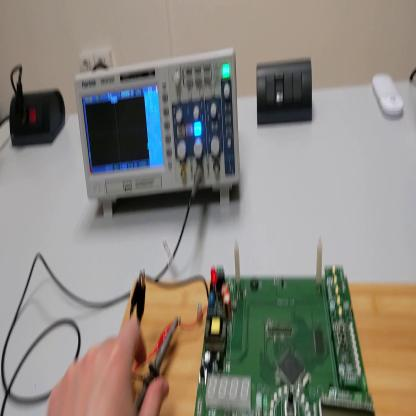hand: (51, 324, 170, 416)
low voltage board: (147, 243, 379, 416)
oscilloscope: (72, 51, 241, 217)
oscilloscope probe tip: (138, 311, 179, 404)
socket: (11, 88, 68, 150)
working area: (122, 283, 416, 413)
